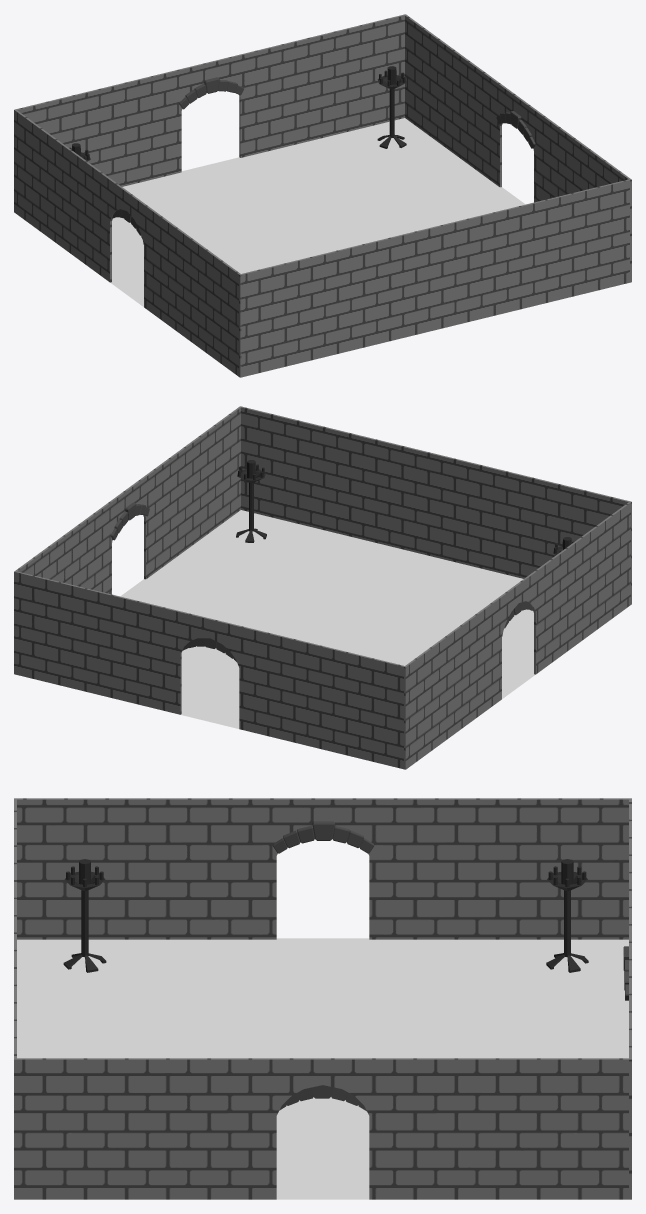
The model's file is Crypts Room 1 Mesh.fbx.
3 views of the same model, one above another, from view 1: azimuth 30°, elevation 25°; view 2: azimuth 150°, elevation 25°; view 3: azimuth 270°, elevation 25° (orthographic). The views are drawn at different scales.
Visible parts, largest first — view 1: Room 1 Mesh; view 2: Room 1 Mesh; view 3: Room 1 Mesh.
Part boxes in pixels (left/top/right/bottom): Room 1 Mesh: left=14, top=14, right=631, bottom=377; Room 1 Mesh: left=14, top=406, right=631, bottom=769; Room 1 Mesh: left=14, top=798, right=631, bottom=1199.
Bounding box in the file's own units: 2000 × 500 × 2000.
